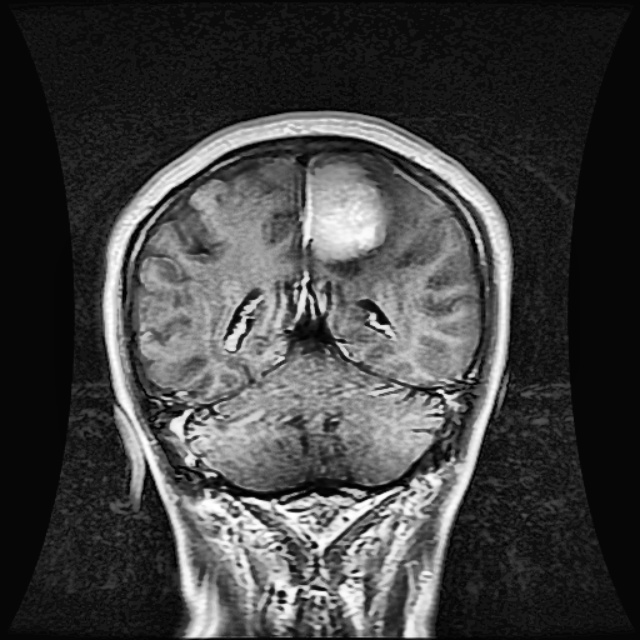Glioma: (304, 160, 387, 259)
